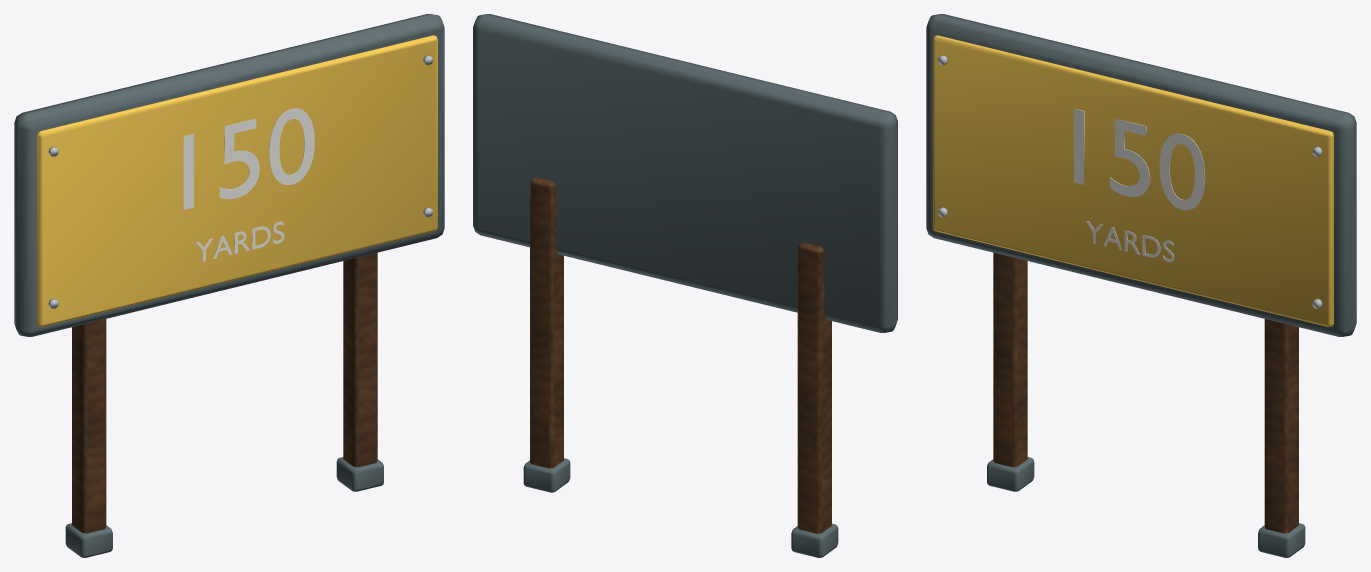
File: distance-marker-150.glb
3 views of the same model, side by side, from view 1: azimuth 30°, elevation 25°; view 2: azimuth 150°, elevation 25°; view 3: azimuth 330°, elevation 25° (orthographic).
Parts seen in each view (by area): view 1: MarkerFace.002, PostFoot.002, Post.002, Yardage.002; view 2: PostFoot.002, Post.002; view 3: MarkerFace.002, PostFoot.002, Post.002, Yardage.002.
Part boxes in pixels (bbox=[...]): MarkerFace.002: bbox=[37, 35, 437, 326]; PostFoot.002: bbox=[14, 14, 444, 557]; Post.002: bbox=[72, 252, 377, 533]; Yardage.002: bbox=[183, 108, 314, 261]; PostFoot.002: bbox=[473, 14, 897, 557]; Post.002: bbox=[530, 177, 831, 533]; MarkerFace.002: bbox=[933, 35, 1333, 326]; PostFoot.002: bbox=[926, 14, 1356, 557]; Post.002: bbox=[993, 252, 1298, 533]; Yardage.002: bbox=[1074, 108, 1205, 262].
Bounding box in the file's own units: 1.32 × 1.35 × 0.142.
5 materials, 1 textured.
